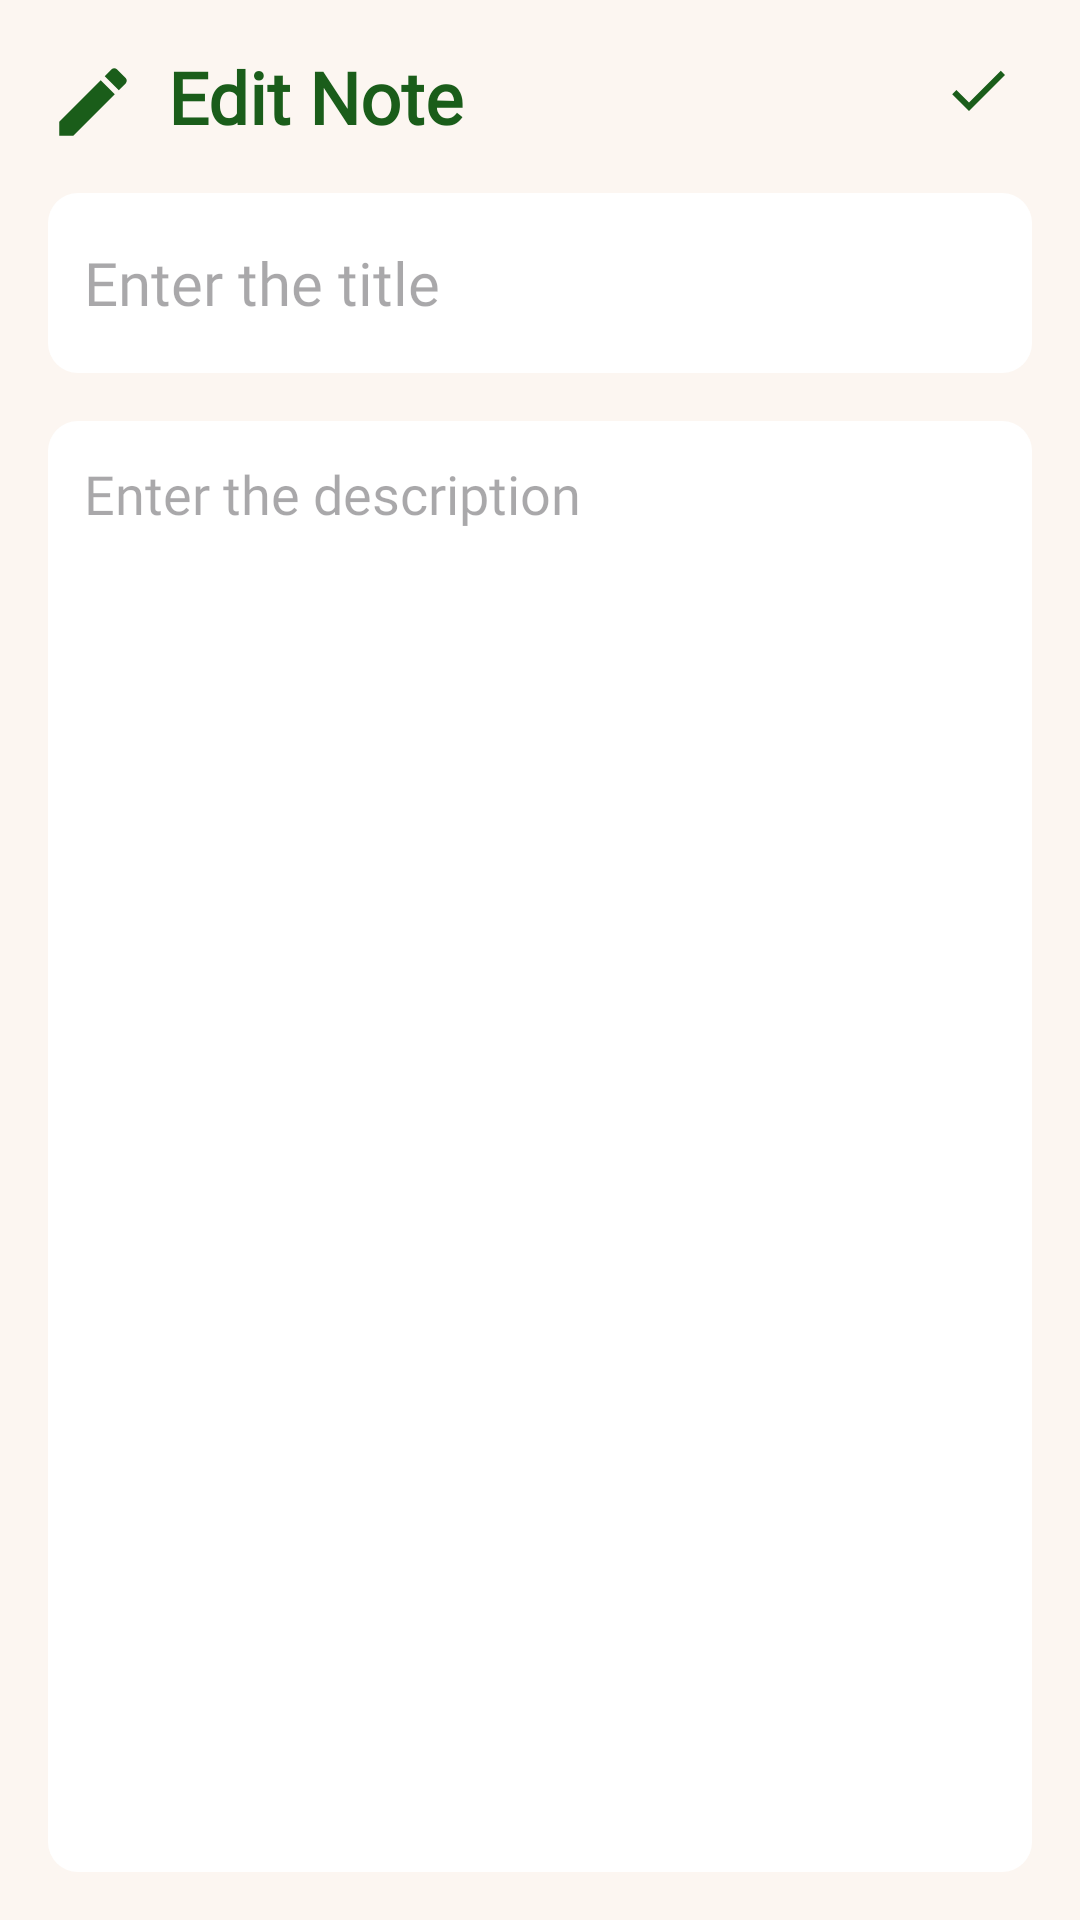

Where to tap for icons on this 1080px×1920px app screen, as [x,y]:
done: [978,91]
